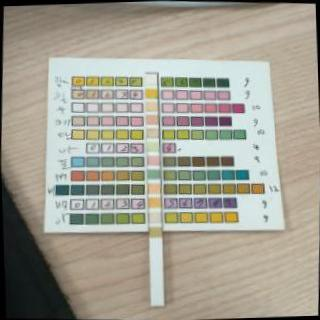mark: (147, 182, 160, 194), (146, 168, 160, 179), (150, 226, 162, 238), (148, 196, 160, 208), (145, 86, 157, 98), (144, 74, 156, 86), (147, 154, 159, 165), (147, 141, 159, 152), (146, 114, 158, 125), (148, 212, 160, 222), (146, 128, 158, 138), (146, 101, 157, 111)
